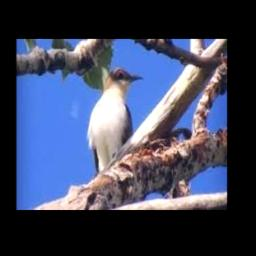Cuckoo: (87, 68, 145, 174)
